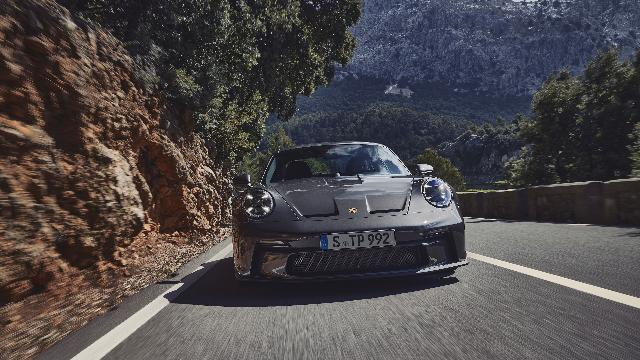porsche: (232, 141, 468, 285)
